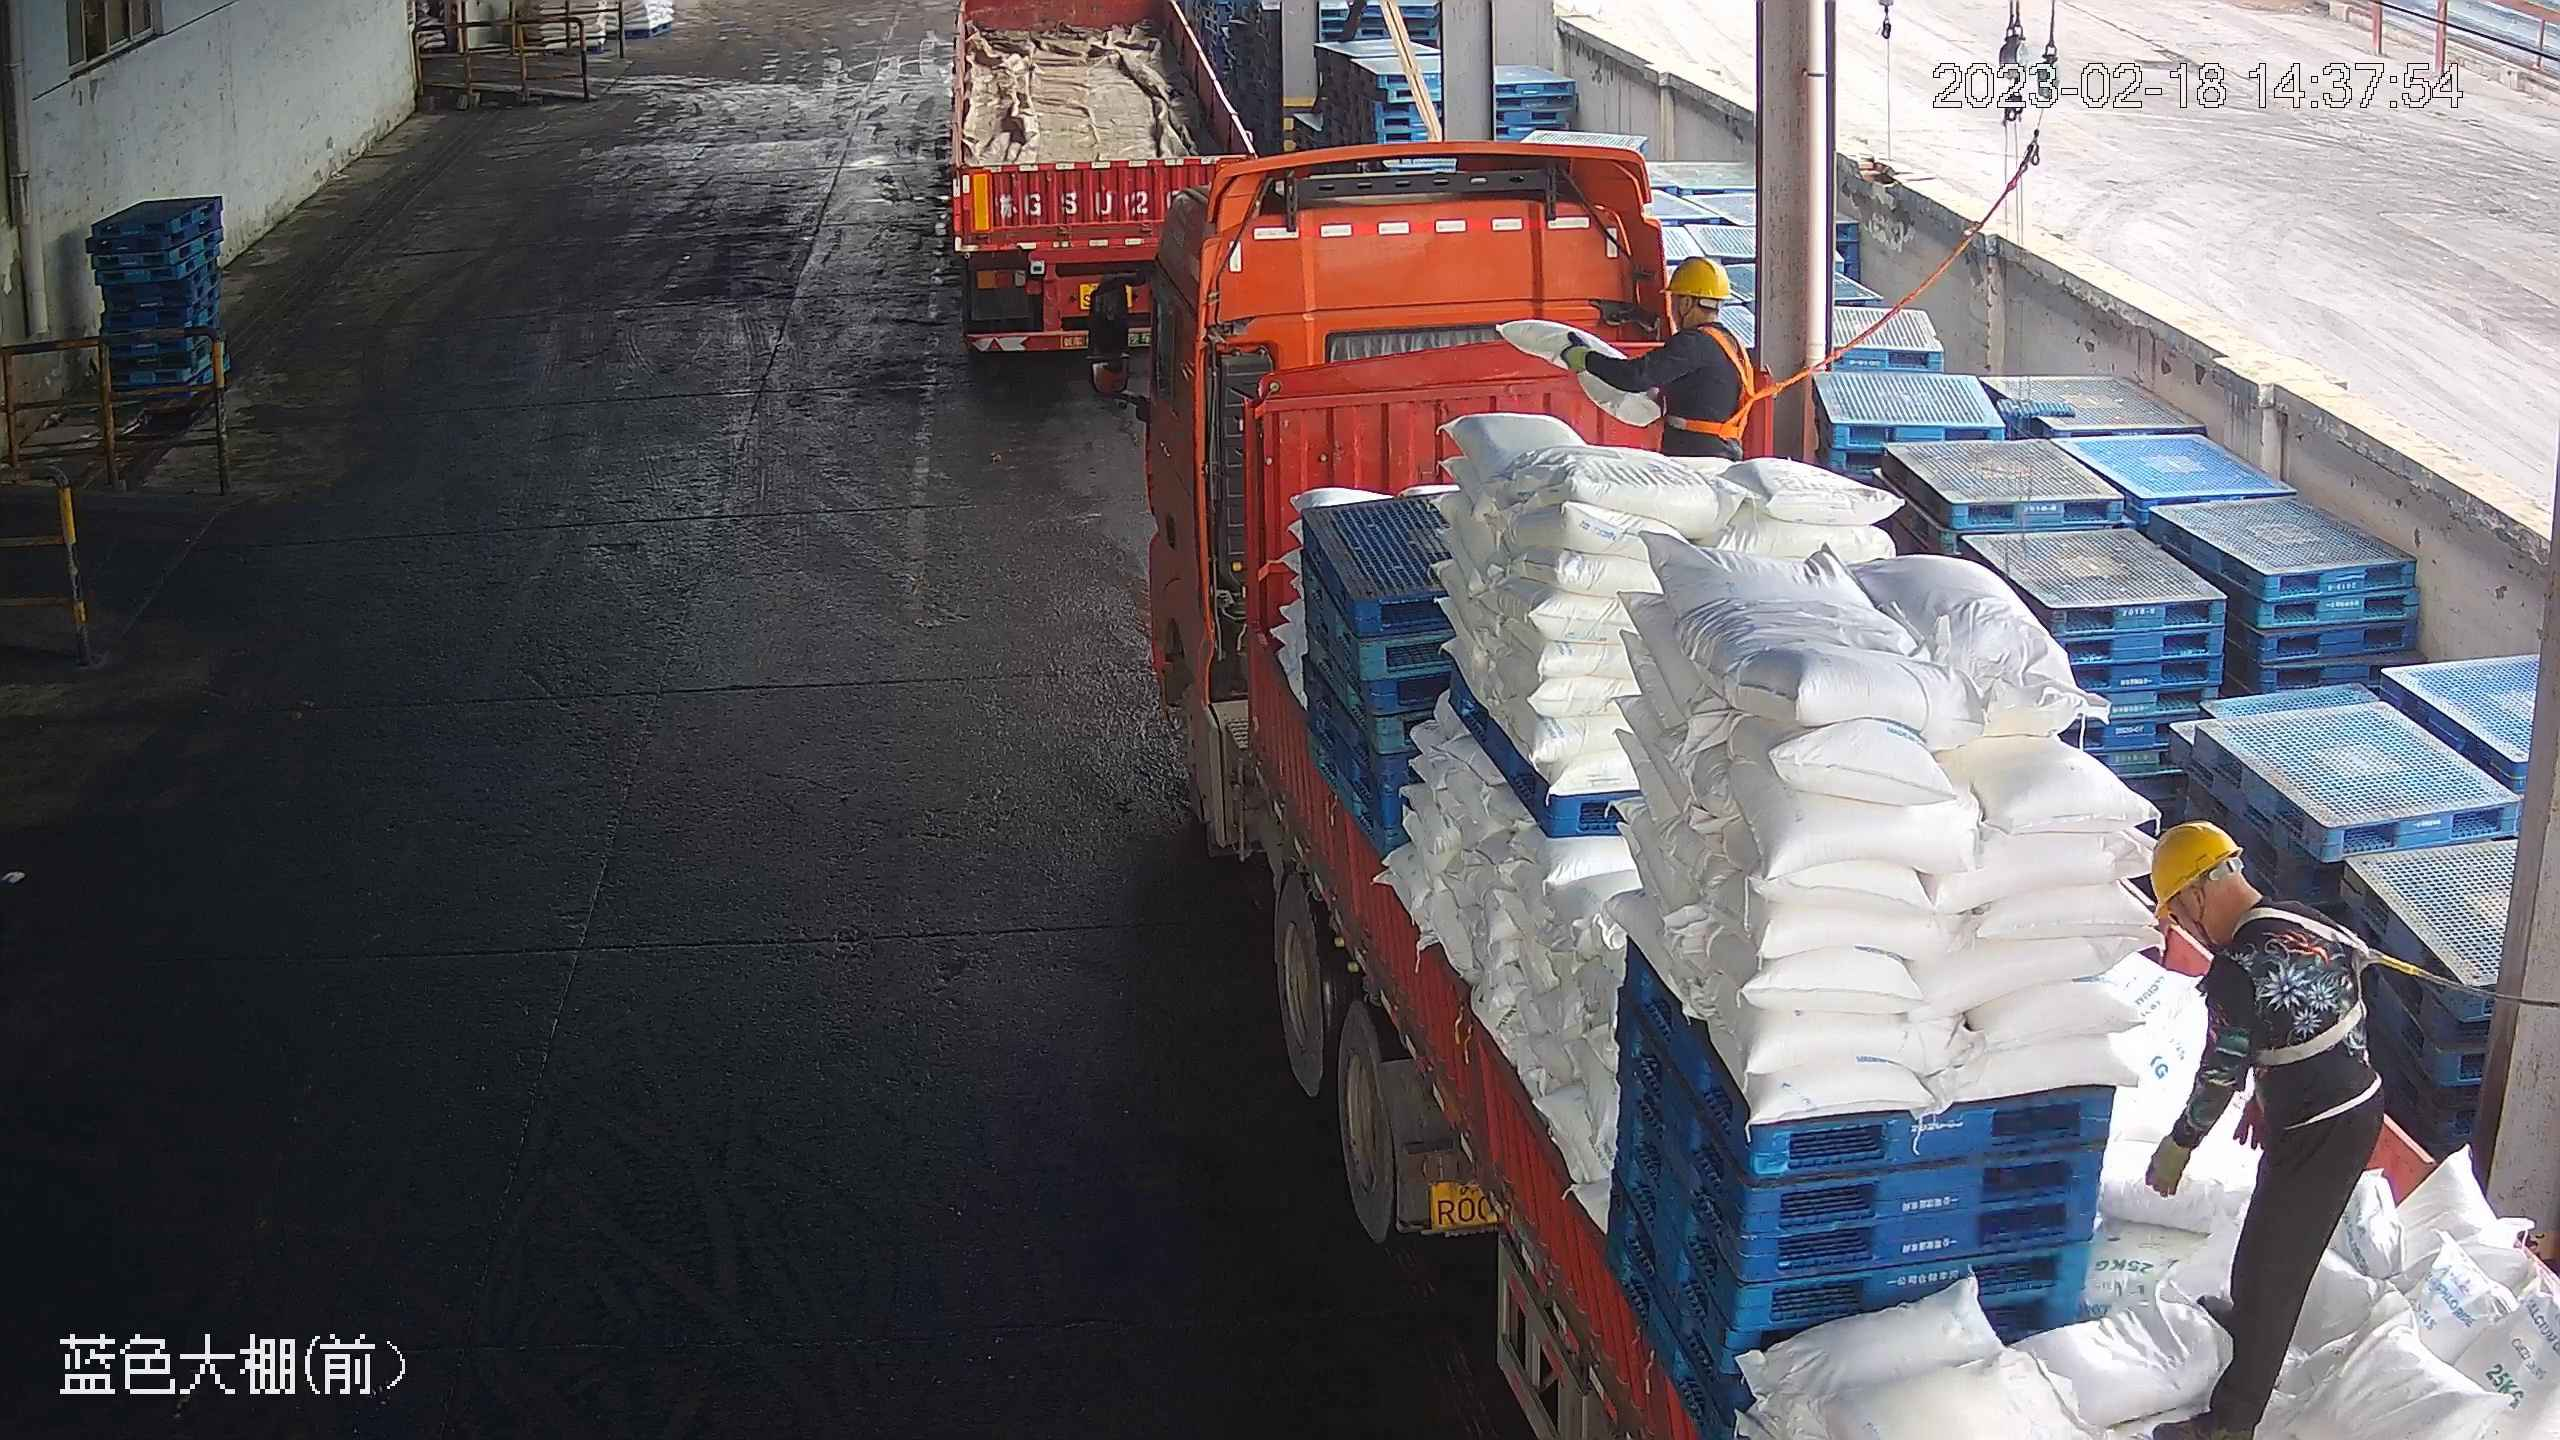belt: (2236, 911, 2403, 1089), (1666, 325, 1770, 441)
head: (2139, 820, 2365, 1017), (1646, 254, 1759, 380)
helmet: (2144, 818, 2245, 918), (1660, 253, 1732, 301)
people: (2127, 821, 2390, 1440)
truck: (1137, 141, 2555, 1437), (937, 1, 1262, 368)
